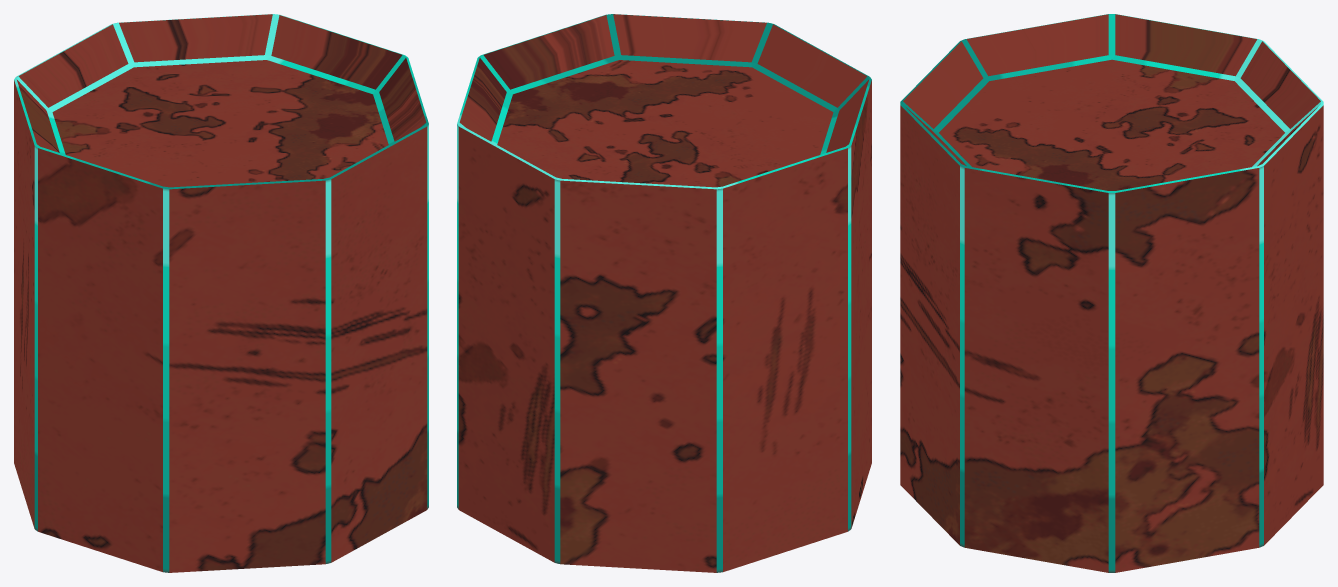
File: CYLINDER_OPAQUE.glb
The picture shows the model from 3 angles, left to right: view 1: azimuth 30°, elevation 25°; view 2: azimuth 150°, elevation 25°; view 3: azimuth 270°, elevation 25°; orthographic projection.
Parts seen in each view (by area): view 1: Cylinder.021; view 2: Cylinder.021; view 3: Cylinder.021.
Part boxes in pixels (<box>): Cylinder.021: <box>14,14,428,572</box>; Cylinder.021: <box>457,14,871,572</box>; Cylinder.021: <box>900,14,1323,572</box>.
Bounding box in the file's own units: 2.01 × 2 × 2.01.
2 materials, 2 textured.
